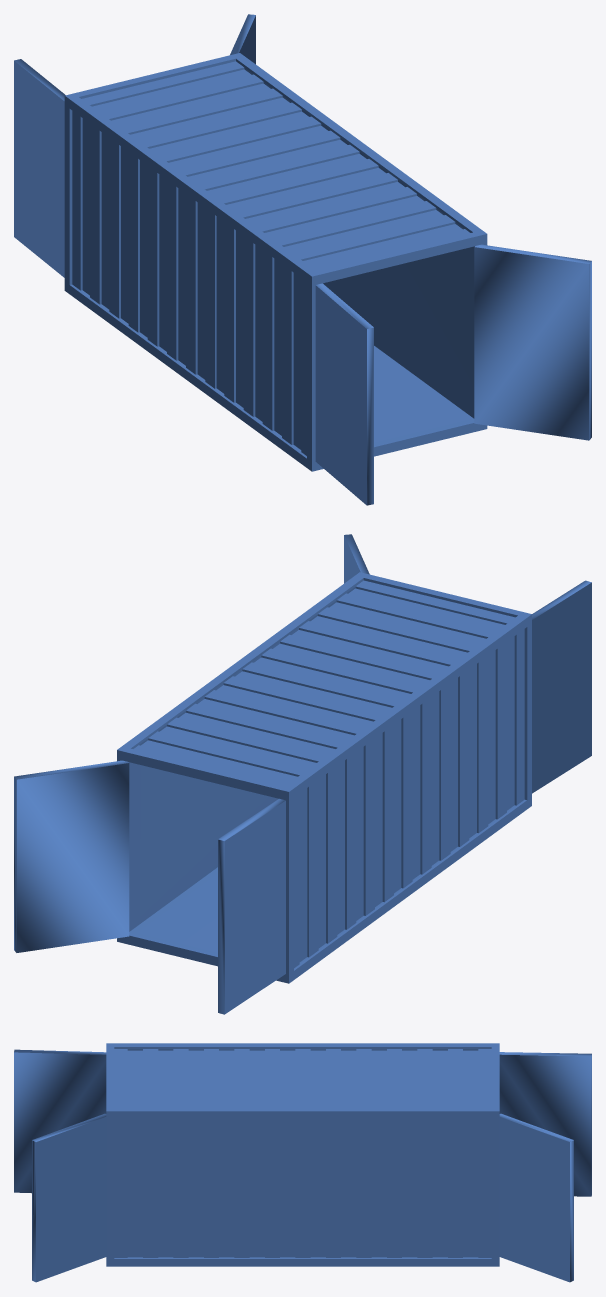
File: OpenContainer.fbx
The picture shows the model from 3 angles, top to bottom: view 1: azimuth 30°, elevation 25°; view 2: azimuth 150°, elevation 25°; view 3: azimuth 270°, elevation 25°; orthographic projection. The views are drawn at different scales.
Visible parts, largest first — view 1: OpenContainer, OpenContainerDoor.001, OpenContainerDoor, OpenContainerDoor.003, OpenContainerDoor.002; view 2: OpenContainer, OpenContainerDoor.002, OpenContainerDoor.003, OpenContainerDoor, OpenContainerDoor.001; view 3: OpenContainer, OpenContainerDoor.001, OpenContainerDoor.002, OpenContainerDoor, OpenContainerDoor.003.
Part boxes in pixels (<box>): OpenContainer: <box>64,53,487,471</box>; OpenContainerDoor.001: <box>474,244,591,440</box>; OpenContainerDoor: <box>315,283,373,505</box>; OpenContainerDoor.003: <box>14,59,65,277</box>; OpenContainerDoor.002: <box>230,14,255,64</box>; OpenContainer: <box>117,572,531,983</box>; OpenContainerDoor.002: <box>14,760,129,952</box>; OpenContainerDoor.003: <box>218,798,285,1014</box>; OpenContainerDoor: <box>532,580,591,793</box>; OpenContainerDoor.001: <box>344,534,369,583</box>; OpenContainer: <box>106,1043,499,1266</box>; OpenContainerDoor.001: <box>32,1113,106,1282</box>; OpenContainerDoor.002: <box>499,1113,573,1282</box>; OpenContainerDoor: <box>14,1049,106,1193</box>; OpenContainerDoor.003: <box>499,1052,591,1196</box>.
Size of what is drawn, in the model's own units: 3.41 by 8.99 by 2.66.
